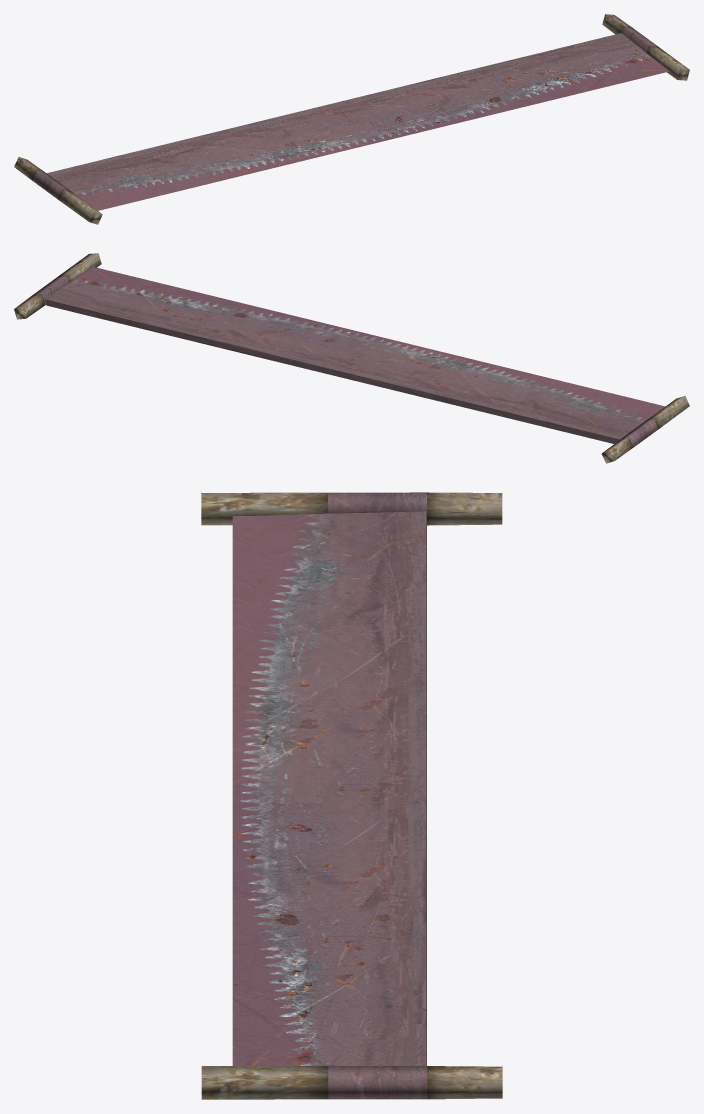
The model's file is Saw_LOD1.fbx.
The picture shows the model from 3 angles, top to bottom: view 1: azimuth 30°, elevation 25°; view 2: azimuth 150°, elevation 25°; view 3: azimuth 270°, elevation 25°; orthographic projection. The views are drawn at different scales.
Parts seen in each view (by area): view 1: polySurface144; view 2: polySurface144; view 3: polySurface144.
Boxes of the visible parts, box(x1,y1,x2,y2) form: polySurface144: box(14, 14, 689, 224); polySurface144: box(14, 253, 689, 463); polySurface144: box(201, 492, 502, 1099).
Size of the model in its own units: 2.14 by 0.0493 by 0.4638.
1 material, 1 textured.
